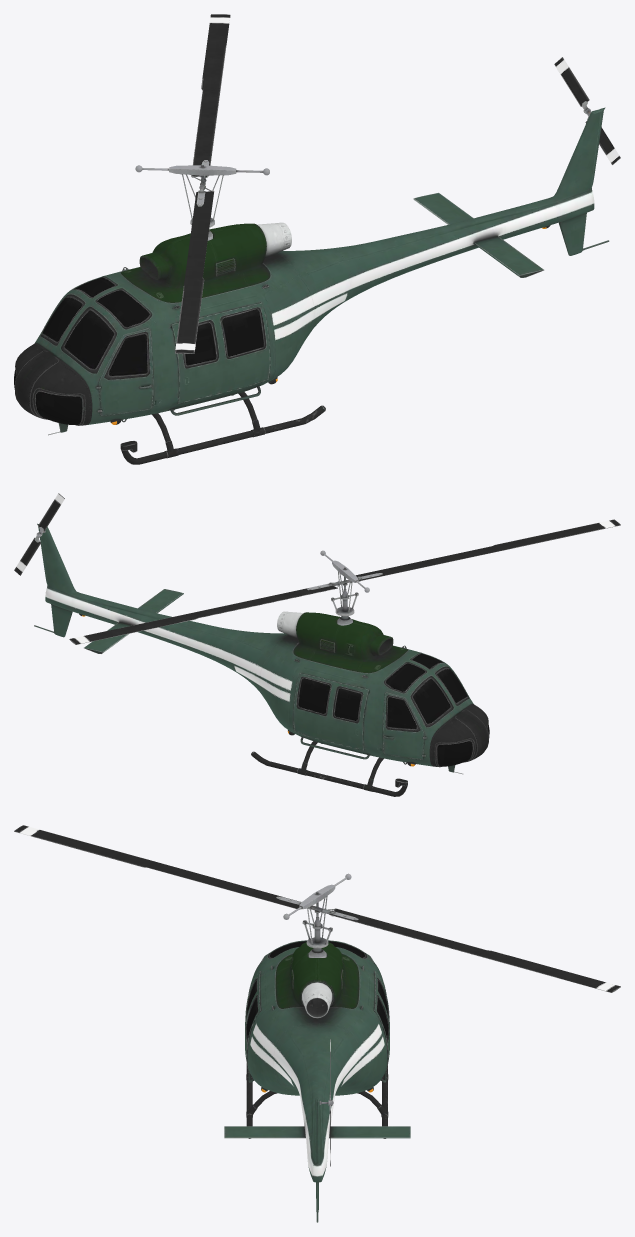
The model's file is h-civil.glb.
The picture shows the model from 3 angles, top to bottom: view 1: azimuth 30°, elevation 25°; view 2: azimuth 150°, elevation 25°; view 3: azimuth 270°, elevation 25°; orthographic projection. The views are drawn at different scales.
Visible parts, largest first — view 1: Object_4, Object_3, Object_2; view 2: Object_4, Object_3, Object_2; view 3: Object_4, Object_3, Object_2.
Boxes of the visible parts, box(x1,y1,x2,y2) form: Object_4: box(14, 57, 620, 464); Object_3: box(14, 14, 270, 425); Object_2: box(33, 30, 235, 425); Object_4: box(14, 493, 489, 796); Object_3: box(69, 519, 620, 766); Object_2: box(76, 525, 620, 767); Object_4: box(224, 873, 620, 1222); Object_3: box(14, 825, 620, 1042); Object_2: box(14, 831, 610, 1074).
Size of the model in its own units: 1224 by 491 by 1175.
Materials: 1 (1 with a texture image).
